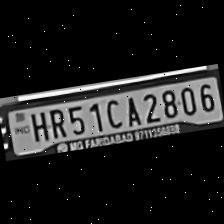0: (176, 82, 198, 116)
1: (84, 100, 106, 132)
2: (138, 88, 162, 124)
5: (64, 100, 88, 136)
6: (194, 78, 217, 112)
8: (156, 84, 180, 119)
A: (120, 92, 142, 126)
C: (100, 95, 124, 129)
H: (26, 106, 50, 141)
R: (46, 104, 68, 139)
